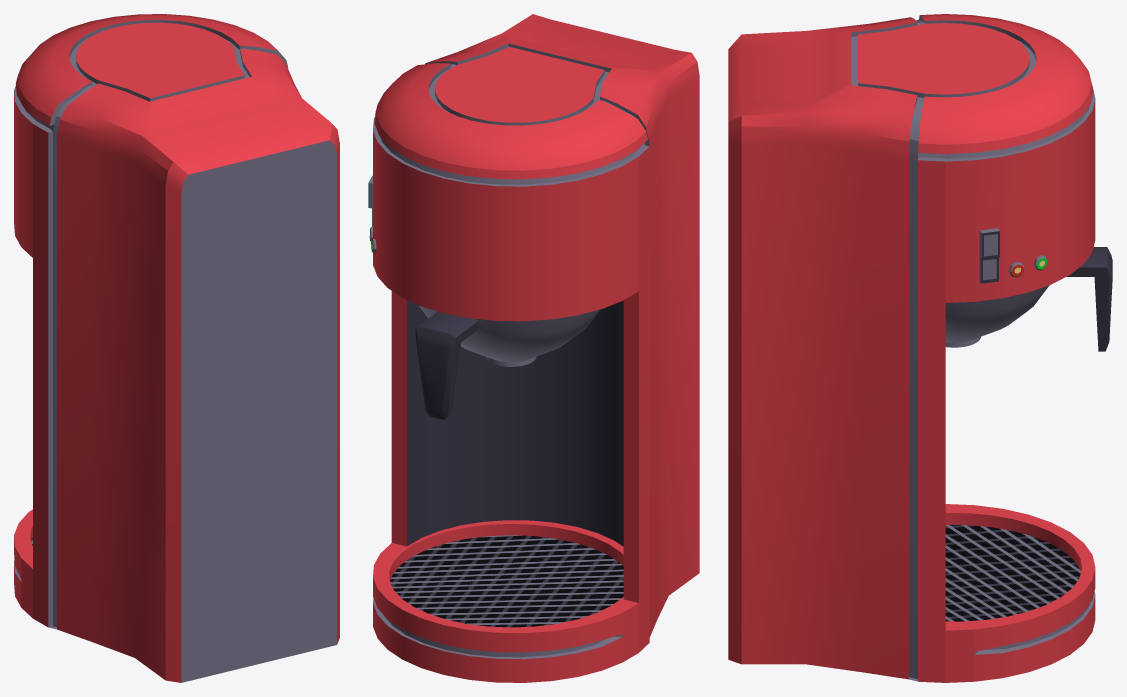
Rendered from coffee machine.fbx.
The picture shows the model from 3 angles, left to right: view 1: azimuth 30°, elevation 25°; view 2: azimuth 150°, elevation 25°; view 3: azimuth 270°, elevation 25°; orthographic projection. The views are drawn at different scales.
Visible parts, largest first — view 1: Cylinder; view 2: Cylinder; view 3: Cylinder.
Boxes of the visible parts, x1,y1,x2,y2 form: Cylinder: [14, 14, 339, 682]; Cylinder: [368, 14, 699, 682]; Cylinder: [728, 14, 1112, 682].
Bounding box in the file's own units: 240 × 491 × 305.
7 materials, 1 textured.
